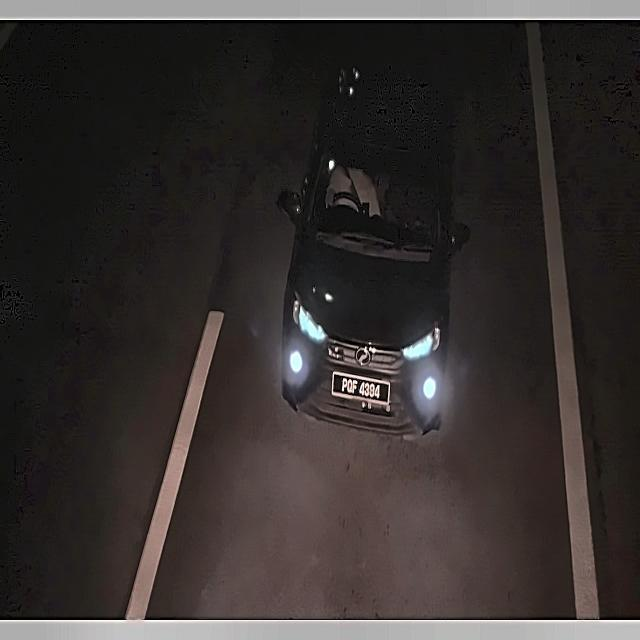car: (328, 364, 392, 410)
